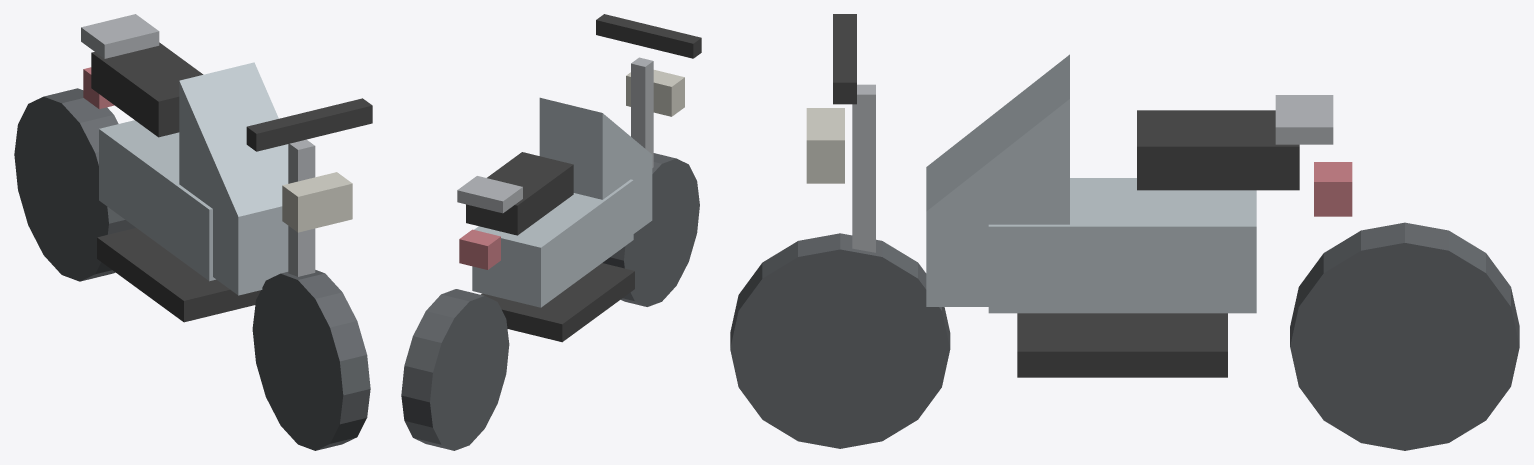
The model's file is xiaofu.glb.
3 views of the same model, side by side, from view 1: azimuth 30°, elevation 25°; view 2: azimuth 150°, elevation 25°; view 3: azimuth 270°, elevation 25° (orthographic). The views are drawn at different scales.
Parts seen in each view (by area): view 1: front_shield, wheel_F, wheel_R, center_body, floorboard, seat, handlebar, headlight, rear_rack, front_fork, taillight; view 2: wheel_R, center_body, front_shield, wheel_F, floorboard, seat, handlebar, front_fork, rear_rack, headlight, taillight; view 3: wheel_R, wheel_F, center_body, front_shield, floorboard, seat, front_fork, headlight, rear_rack, handlebar, taillight.
Boxes of the visible parts, x1=… form: front_shield: x1=179, y1=62, x2=288, y2=295; wheel_F: x1=252, y1=270, x2=370, y2=450; wheel_R: x1=14, y1=88, x2=135, y2=281; center_body: x1=99, y1=120, x2=215, y2=281; floorboard: x1=97, y1=228, x2=260, y2=322; seat: x1=91, y1=42, x2=203, y2=137; handlebar: x1=246, y1=98, x2=372, y2=151; headlight: x1=282, y1=172, x2=352, y2=232; rear_rack: x1=81, y1=14, x2=159, y2=58; front_fork: x1=288, y1=139, x2=315, y2=276; taillight: x1=83, y1=67, x2=114, y2=109; wheel_R: x1=401, y1=289, x2=509, y2=450; center_body: x1=472, y1=179, x2=633, y2=307; front_shield: x1=539, y1=97, x2=652, y2=233; wheel_F: x1=602, y1=153, x2=699, y2=306; floorboard: x1=481, y1=263, x2=634, y2=342; seat: x1=466, y1=152, x2=573, y2=235; handlebar: x1=596, y1=14, x2=701, y2=58; front_fork: x1=631, y1=57, x2=653, y2=167; rear_rack: x1=457, y1=176, x2=522, y2=213; headlight: x1=626, y1=70, x2=684, y2=116; taillight: x1=459, y1=229, x2=500, y2=269; wheel_R: x1=1290, y1=222, x2=1519, y2=450; wheel_F: x1=730, y1=233, x2=950, y2=448; center_body: x1=988, y1=178, x2=1256, y2=313; front_shield: x1=926, y1=54, x2=1069, y2=306; floorboard: x1=1017, y1=313, x2=1227, y2=377; seat: x1=1137, y1=110, x2=1299, y2=190; front_fork: x1=852, y1=84, x2=875, y2=252; headlight: x1=806, y1=108, x2=844, y2=183; rear_rack: x1=1275, y1=95, x2=1333, y2=144; handlebar: x1=833, y1=14, x2=856, y2=104; taillight: x1=1314, y1=162, x2=1352, y2=216.
Size of the model in its own units: 0.34 by 0.905 by 1.65.
